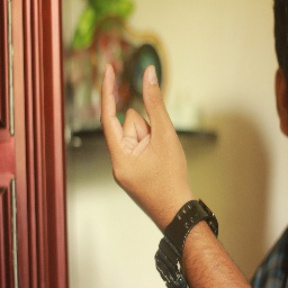U: (97, 62, 183, 197)
